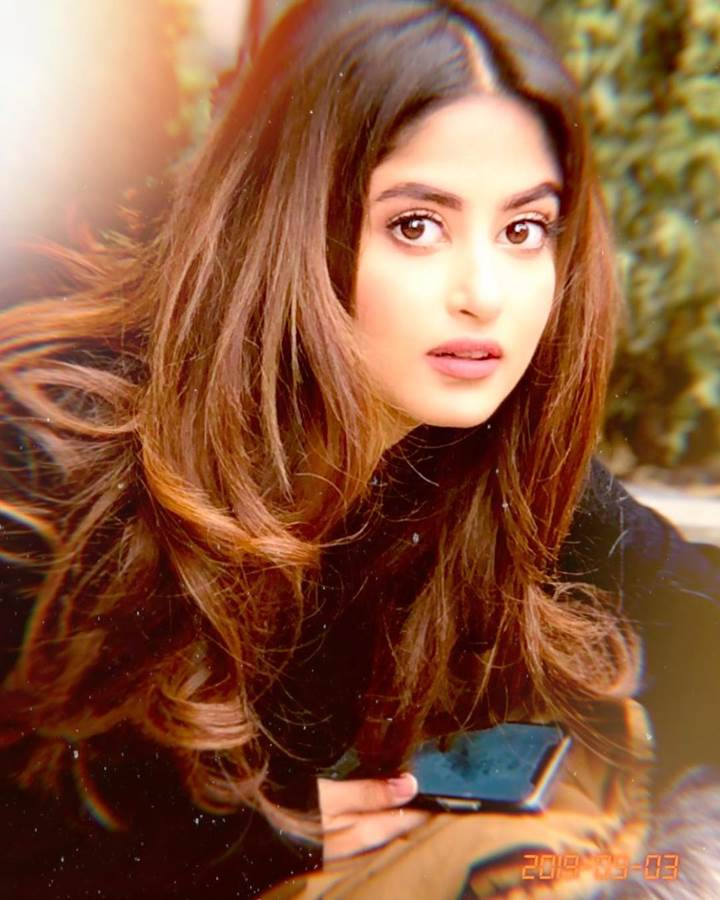NoMask: (369, 166, 565, 430)
